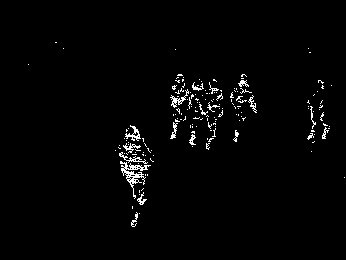person: (113, 124, 155, 231), (228, 70, 260, 143), (306, 76, 333, 141), (202, 75, 225, 149), (184, 78, 208, 147), (169, 72, 192, 141)
